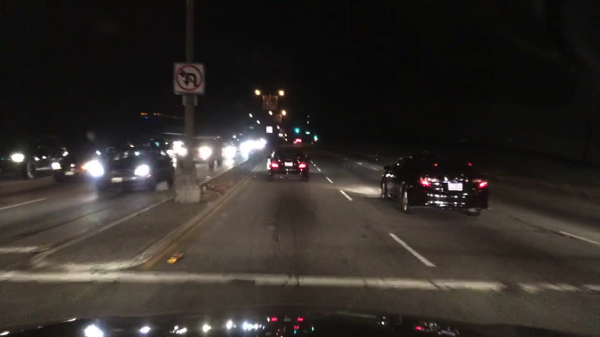car: (379, 151, 489, 215), (94, 141, 175, 192), (0, 136, 69, 180), (52, 144, 110, 182), (176, 137, 223, 169), (266, 148, 310, 182), (224, 139, 250, 157), (162, 132, 179, 148), (294, 138, 301, 144)
traffic light: (294, 125, 299, 133), (313, 132, 318, 140)
traffic sign: (174, 64, 203, 92), (262, 94, 276, 109), (272, 114, 283, 123), (266, 126, 273, 134), (304, 131, 310, 135)
